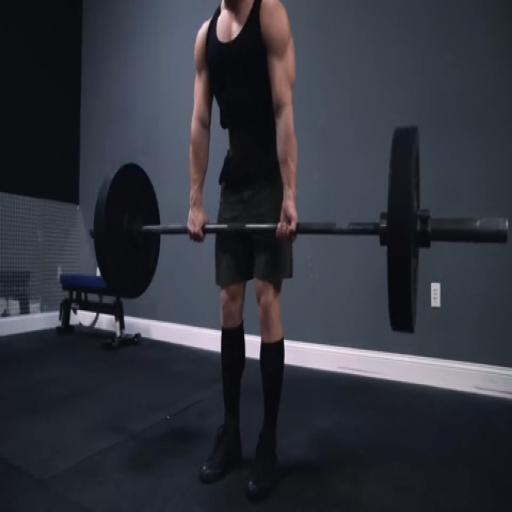exercise: (185, 0, 302, 502)
